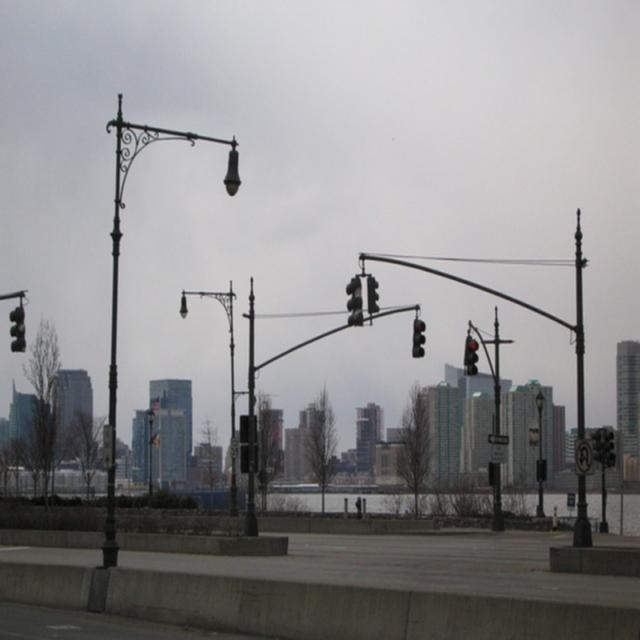fire_hydrant: (354, 495, 360, 516)
pole: (99, 92, 129, 567), (569, 208, 593, 547), (241, 276, 261, 537), (487, 303, 509, 532)
